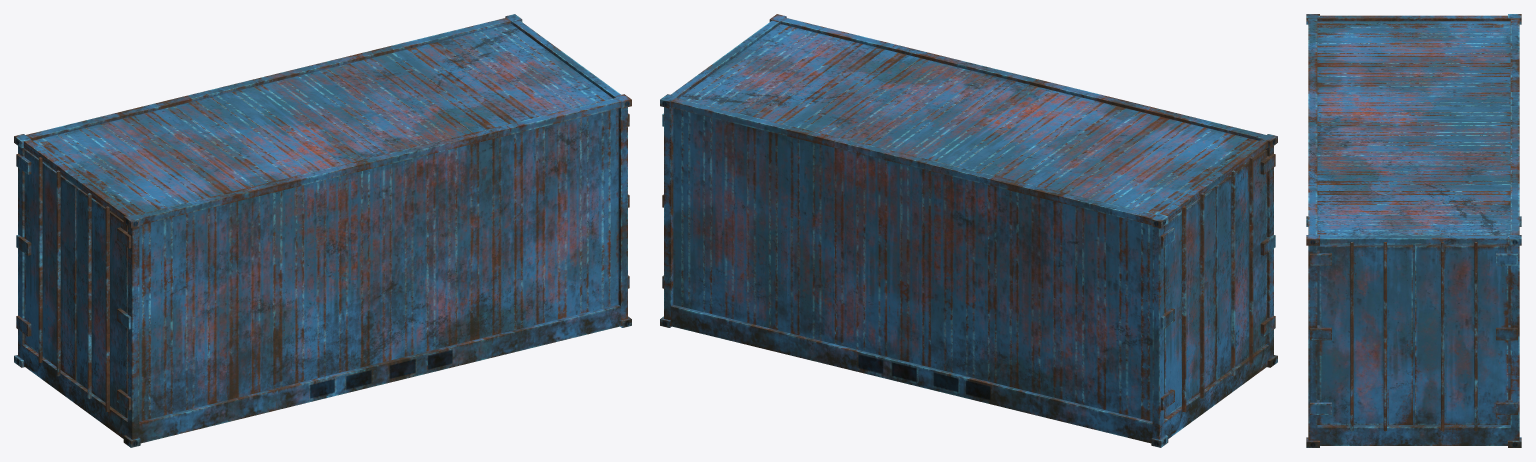
The model's file is Component_ContainerBlue_grp.fbx.
3 views of the same model, side by side, from view 1: azimuth 30°, elevation 25°; view 2: azimuth 150°, elevation 25°; view 3: azimuth 270°, elevation 25° (orthographic). The views are drawn at different scales.
Parts seen in each view (by area): view 1: containerBlue_containerBlue; view 2: containerBlue_containerBlue; view 3: containerBlue_containerBlue.
Part boxes in pixels (box(x1,y1,x2,y2)): containerBlue_containerBlue: box(14, 14, 631, 447); containerBlue_containerBlue: box(660, 14, 1277, 447); containerBlue_containerBlue: box(1306, 14, 1521, 447).
Size of the model in its own units: 606 by 262 by 245.
